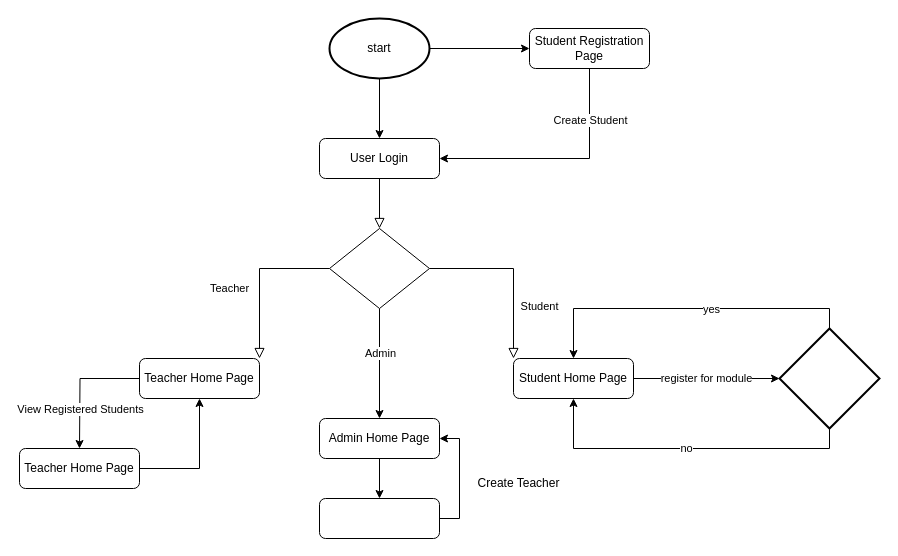
Image size: 898x556. Some labels were removed from this diagram. Each missing label, with the centre of its shape:
"Already Registered?" goes at point 829,378.
"Determine User Role?" goes at point 379,268.
"Teacher Registartion Page" goes at point 379,518.
